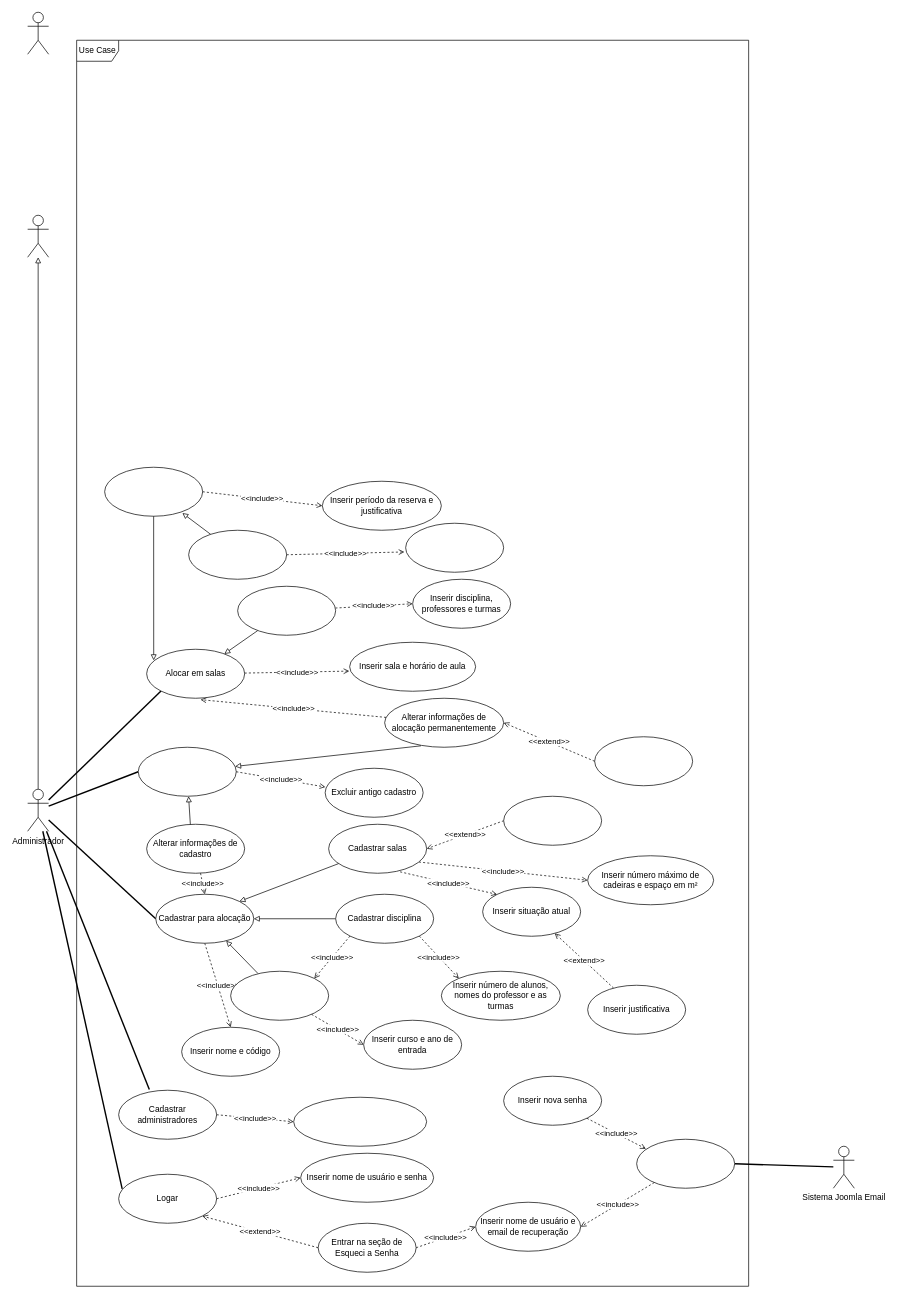
Some shapes in this 897 by 1299 pixel diagram are drawn without their labels. The box of each missing label's shape, as (x1, y1, x2, y2) in pixels:
Alocar disciplina: (237, 586, 336, 635)
Alterar alocação temporariamente: (104, 467, 203, 516)
Alterar informações permanentemente: (138, 747, 236, 796)
Cadastrar turma: (230, 971, 329, 1020)
Enviar email de reuperação: (636, 1139, 735, 1188)
Impressora: (27, 12, 49, 54)
Informar justificativa de troca: (594, 736, 693, 786)
Inserir nome de usuário, senha e email de recuperação: (293, 1097, 427, 1146)
Inserir número de computadores: (503, 796, 602, 845)
Inserir responsável ou professor: (405, 523, 504, 572)
Reservar sala: (188, 530, 287, 579)
Visitante: (27, 215, 49, 257)
